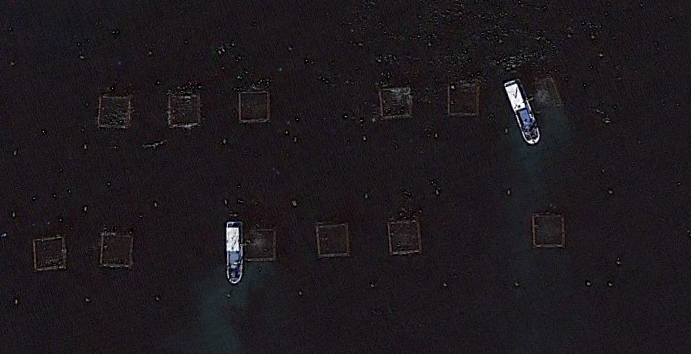ship: (500, 71, 544, 150), (221, 216, 246, 287)
square: (379, 212, 430, 262), (25, 228, 74, 279), (525, 205, 576, 253), (93, 224, 138, 275), (517, 72, 569, 116), (374, 80, 421, 125), (443, 75, 487, 123), (311, 215, 355, 263), (235, 222, 281, 266), (233, 83, 278, 127), (94, 90, 137, 135), (163, 86, 205, 129)
